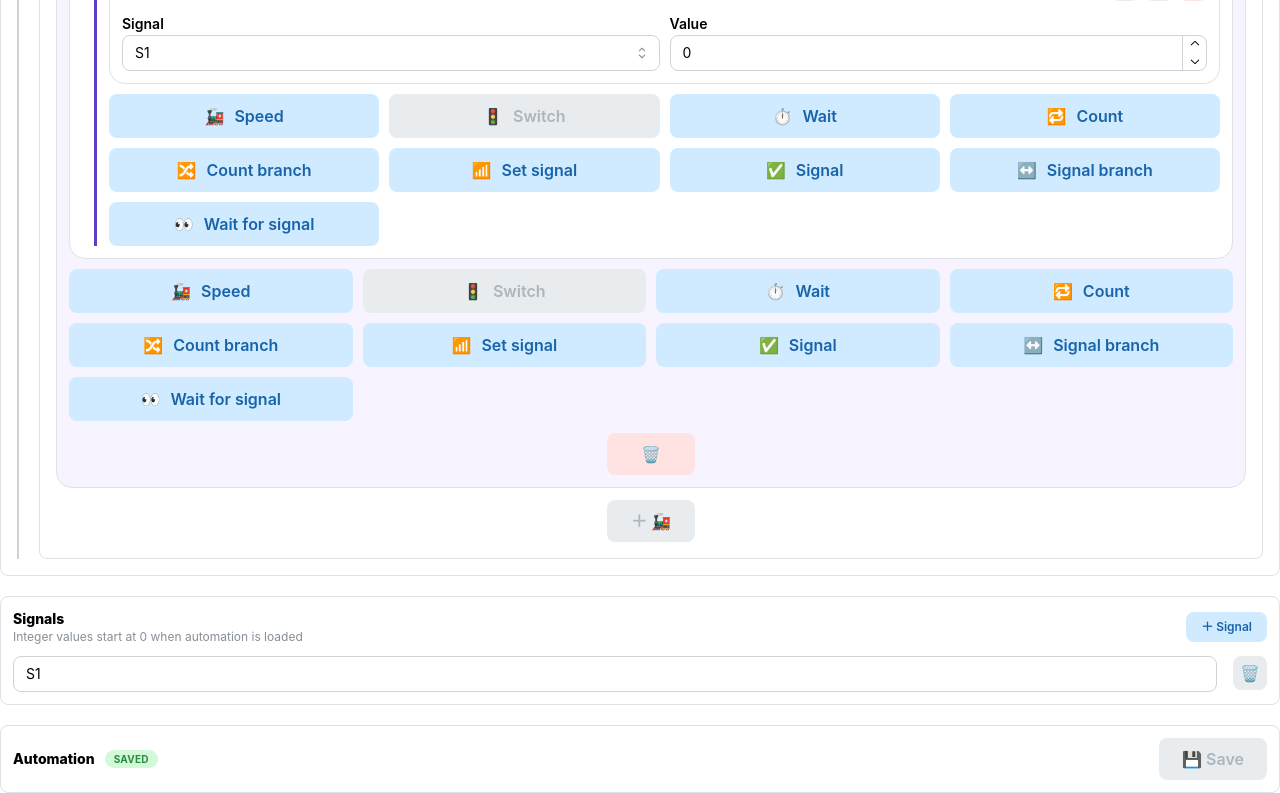
Test: renames a signal and every nested reference atomically
(page scrolled)
Replace the text in the field named "Signal name S1" with "segment_clear": coordinates (615, 674) [13, 656, 1217, 692]
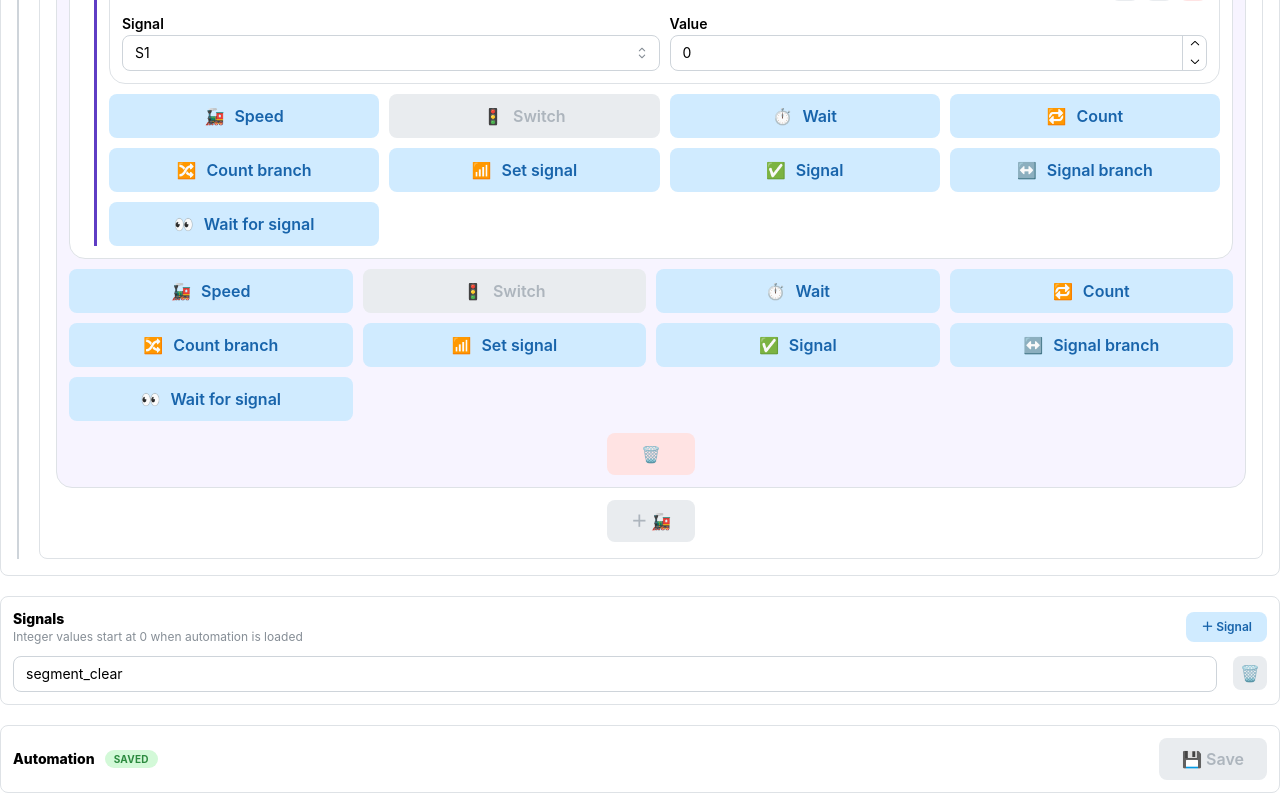
Leave the field named "Signal name S1", box [13, 656, 1217, 692]
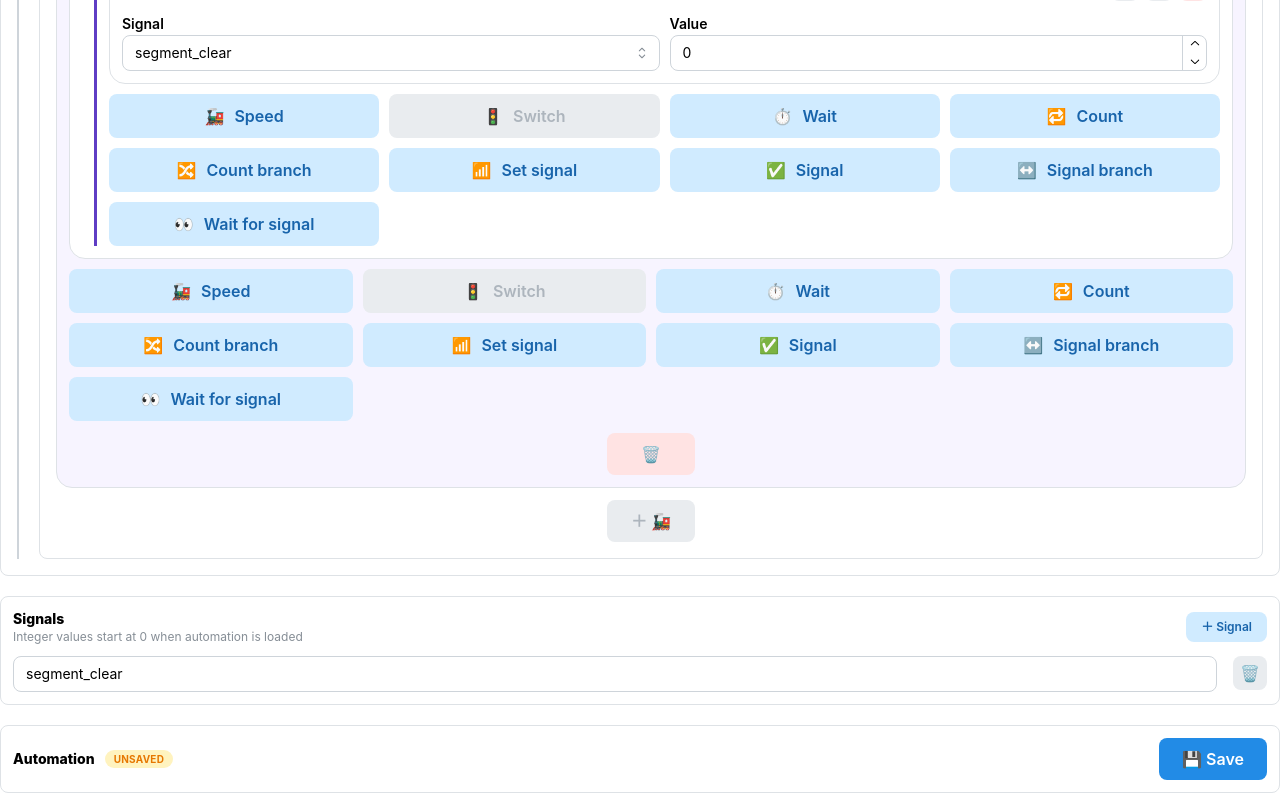
Expected: the button named "Remove signal segment_clear" is disabled, [1233, 656, 1267, 690]
Expected: the dropdown labelled "Signal" holds "segment_clear", [122, 35, 660, 71]
Expected: the button with aria-label "Save automation" is enabled, [1159, 738, 1267, 780]
